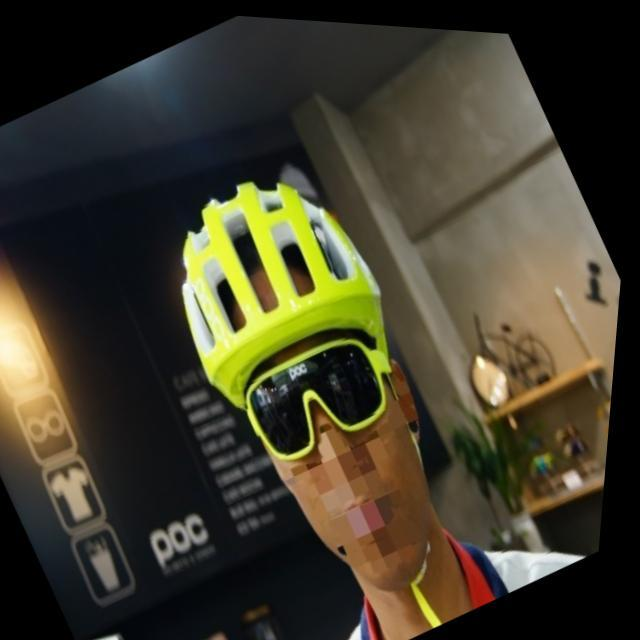Helmet: (173, 174, 449, 589)
